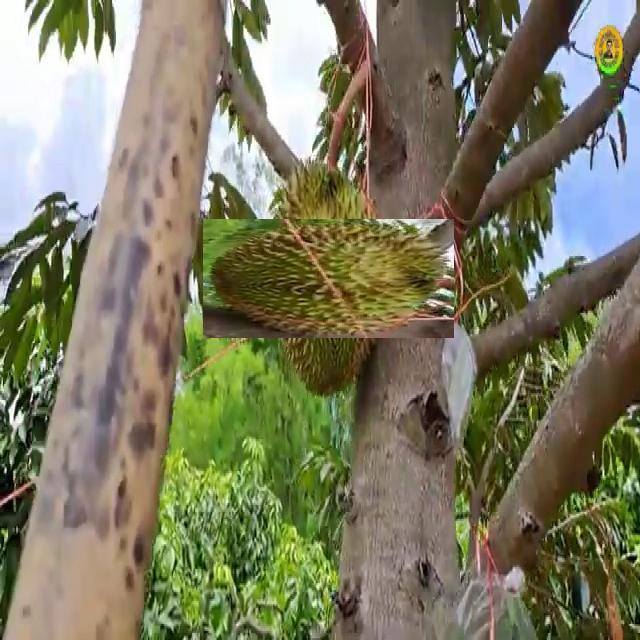durian: (236, 186, 421, 371)
